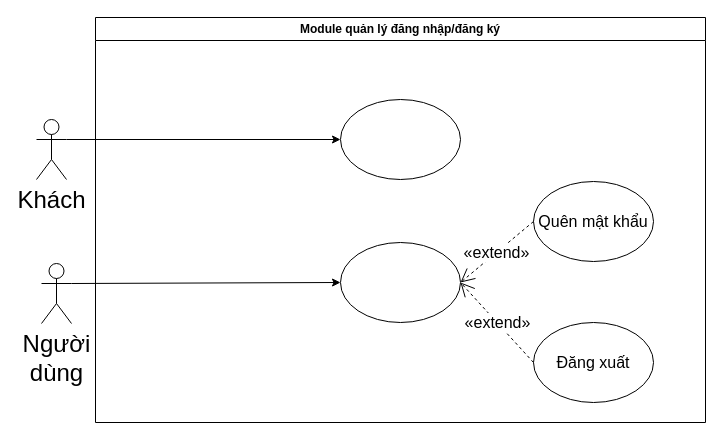
Some shapes in this 723 by 440 pixel diagram are drawn without their labels. Here are the shapes that lost their labels. From the top down, the centre of each, then its label:
At [400,139]: "Đăng ký".
At [400,282]: "Đăng nhập".
